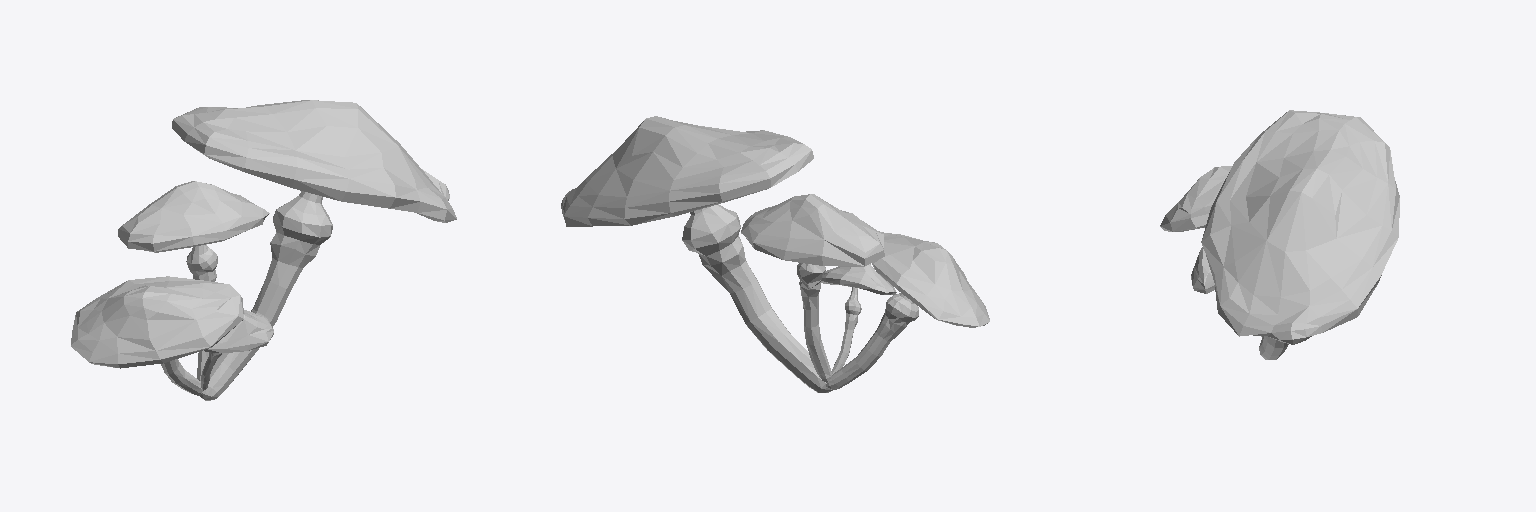
File: PolySphere5_Low.obj
The picture shows the model from 3 angles: view 1: azimuth 30°, elevation 25°; view 2: azimuth 150°, elevation 25°; view 3: azimuth 270°, elevation 25°; orthographic projection.
Visible parts, largest first — view 1: ZBrush_defualt_group, Group1; view 2: ZBrush_defualt_group, Group1; view 3: ZBrush_defualt_group.
Part boxes in pixels (bbox=[...]): ZBrush_defualt_group: bbox=[71, 100, 456, 400]; Group1: bbox=[186, 244, 217, 380]; ZBrush_defualt_group: bbox=[561, 116, 989, 392]; Group1: bbox=[797, 263, 831, 382]; ZBrush_defualt_group: bbox=[1160, 110, 1399, 359].
Bounding box in the file's own units: 0.585 × 0.3586 × 0.3057.